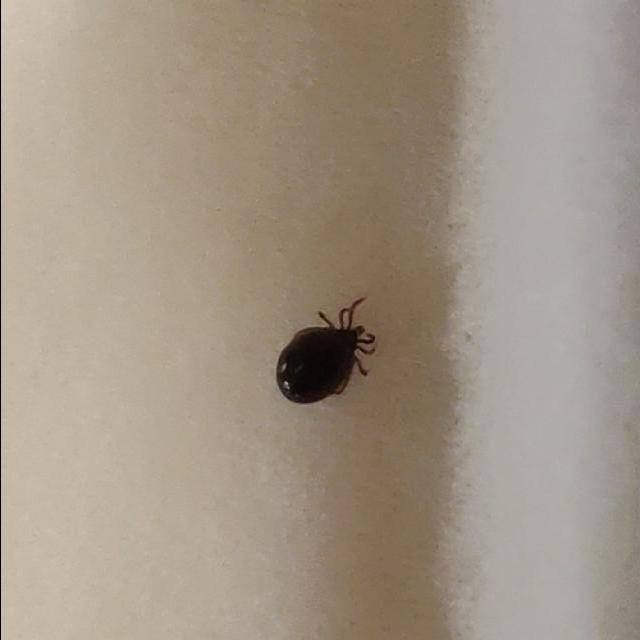Ixodes Ricinus-F-Fed: (274, 298, 376, 407)
